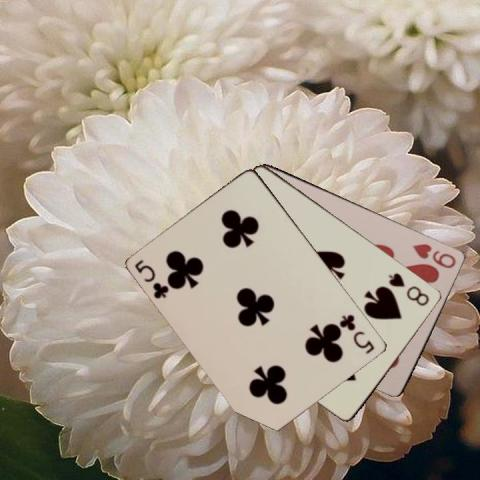5c: (337, 311, 377, 356), (131, 256, 171, 301)
8s: (386, 269, 432, 308)
9h: (410, 240, 458, 270)
